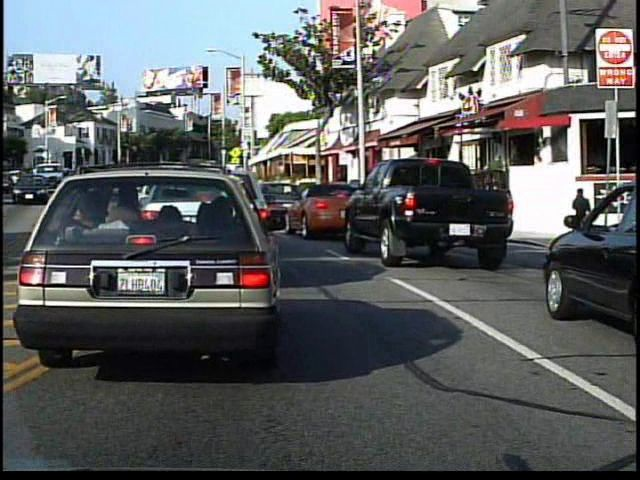person: (485, 151, 509, 201)
